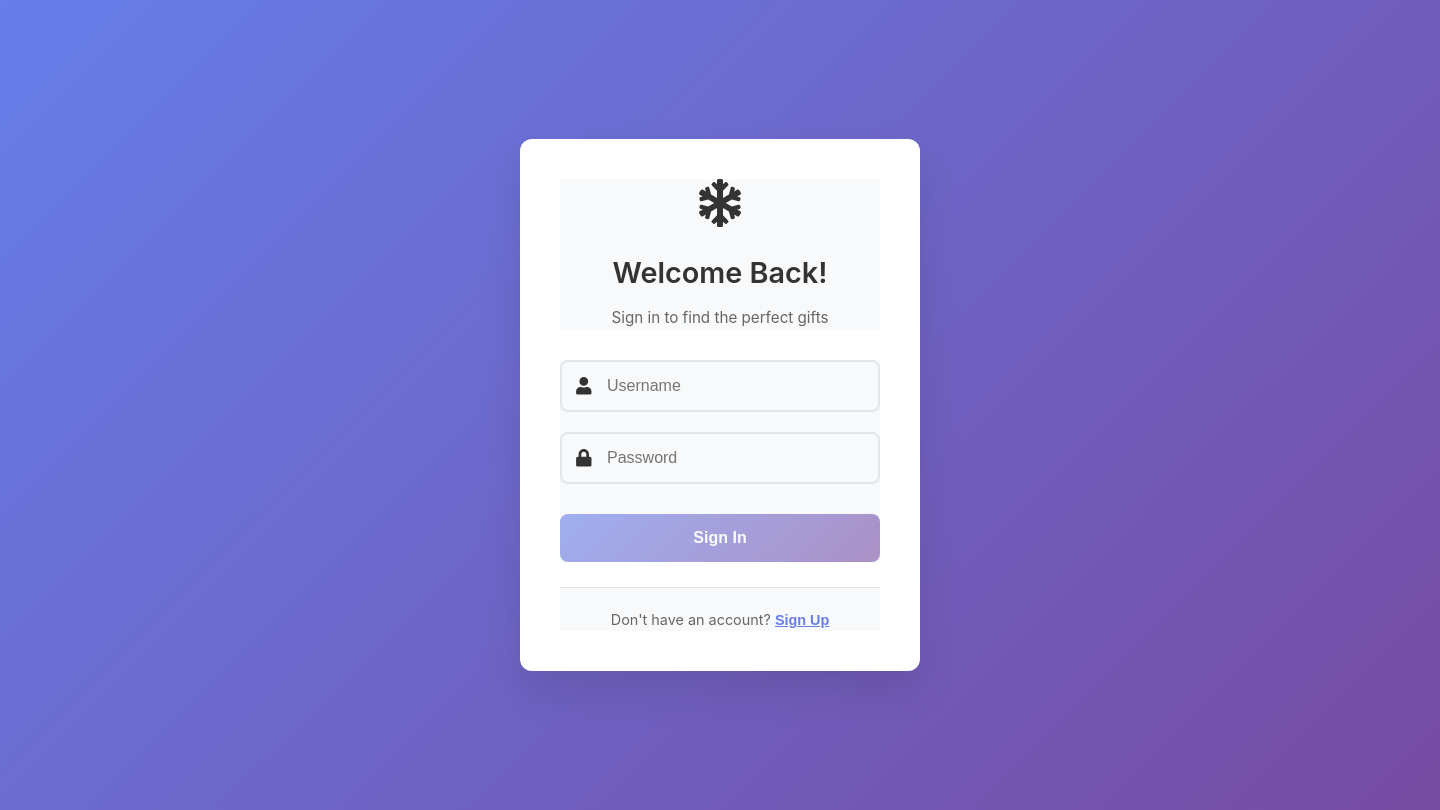
Test: Login Component › Form Submission › handles network errors
The width and height of the screenshot is (1440, 810).
Type "testuser" into the field labelled "Username" at (720, 386), box left=560, top=360, right=880, bottom=412
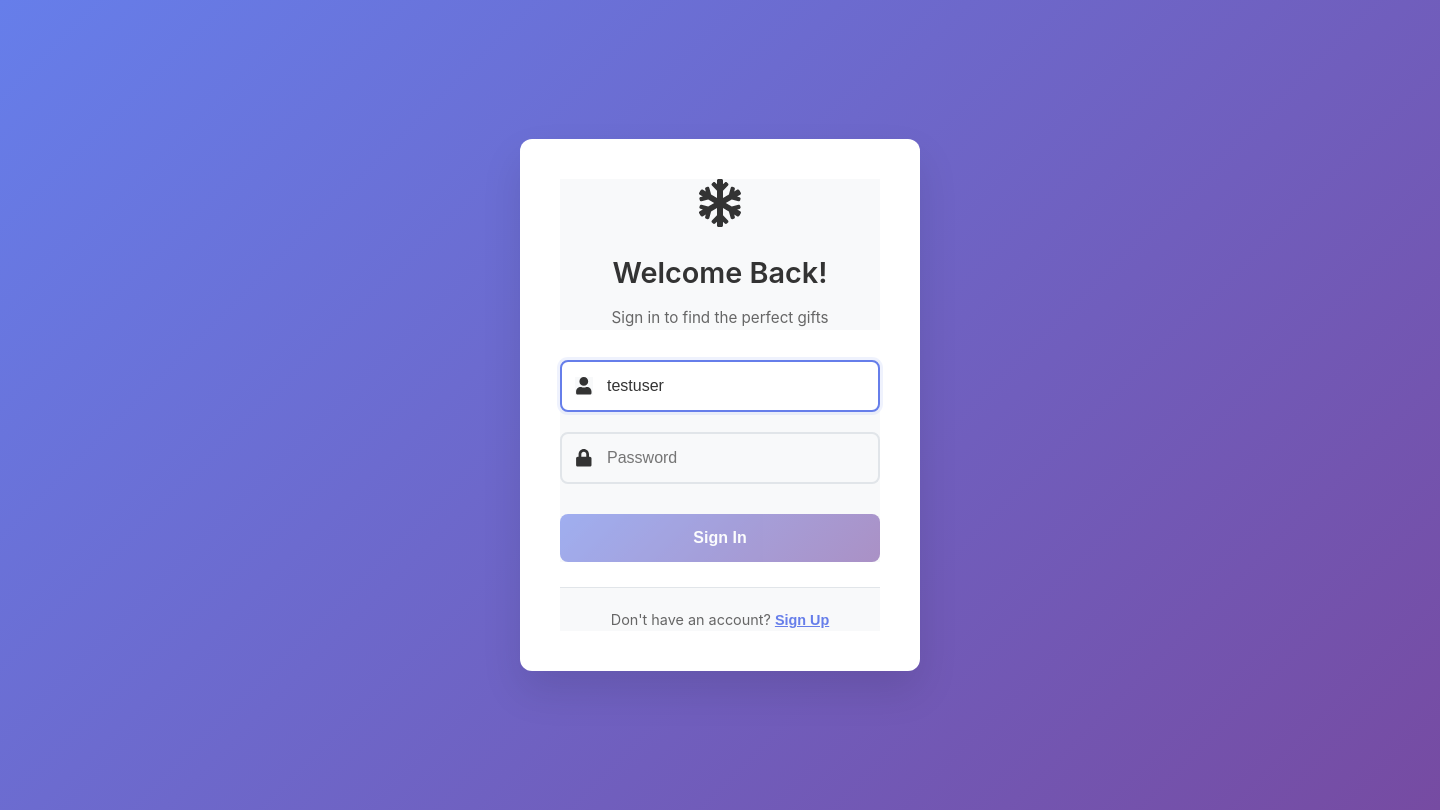
Type "password123" into the password field labelled "Password" at (720, 458), box left=560, top=432, right=880, bottom=484
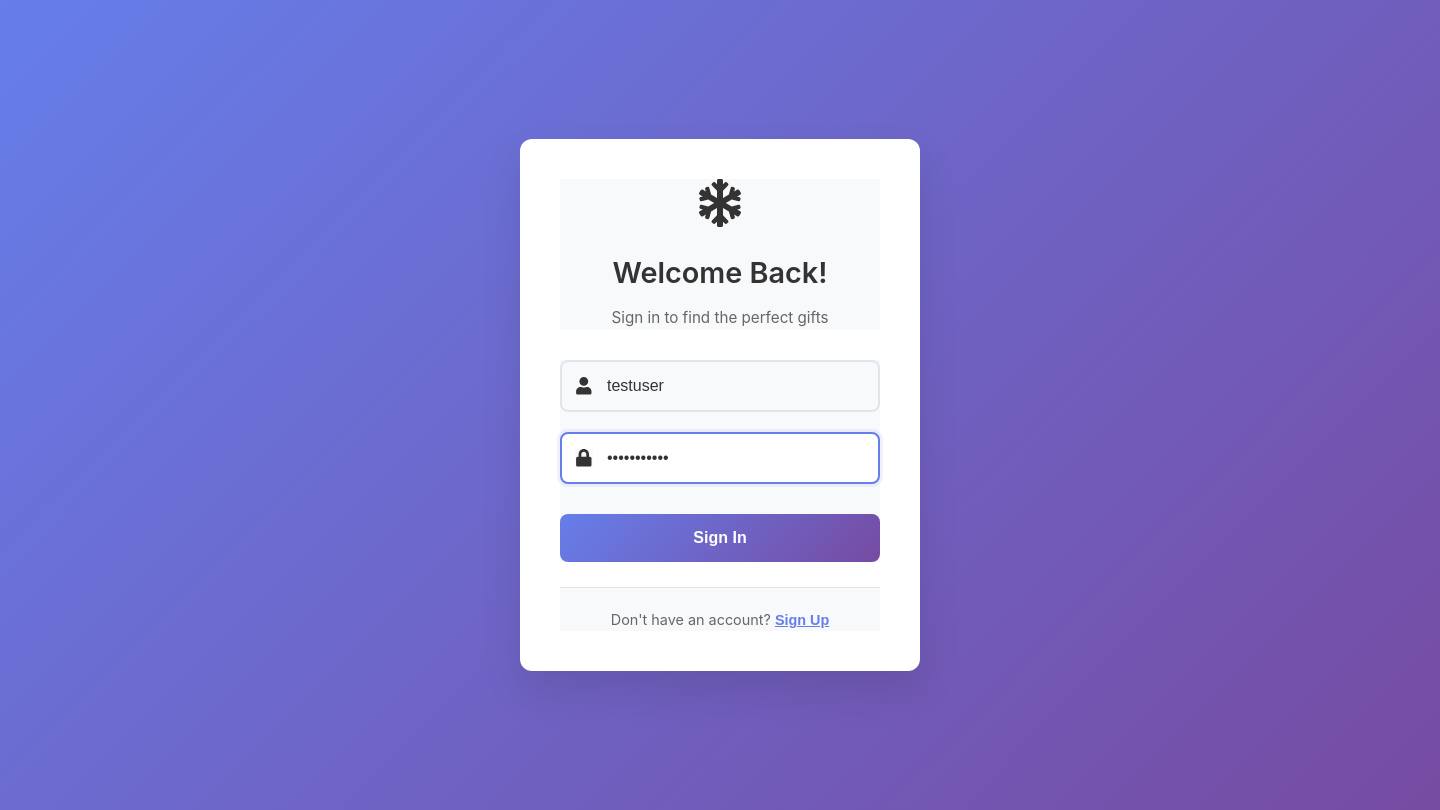
Click the button "Sign In" at (720, 538), box left=560, top=514, right=880, bottom=562
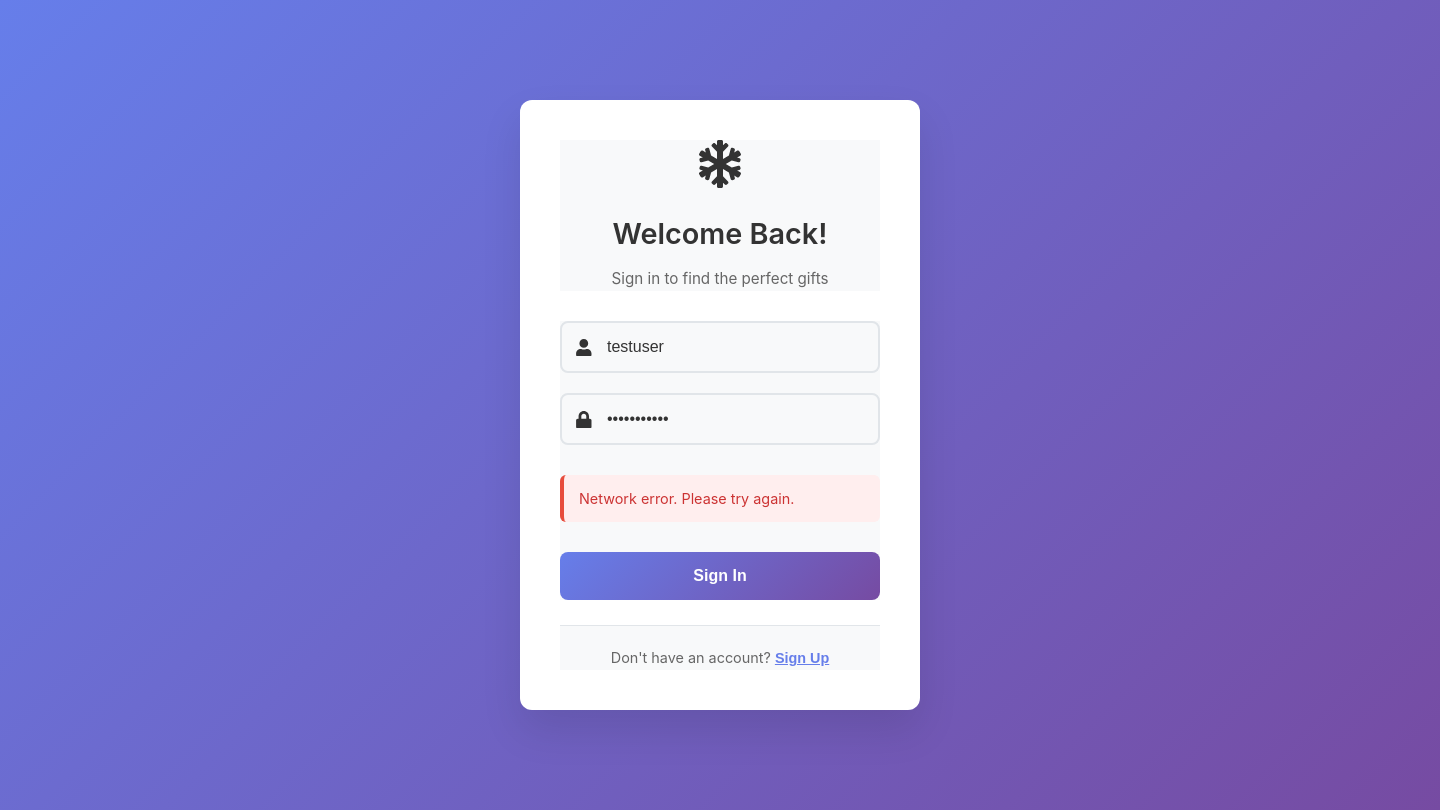
Now the text "Network error. Please try again." is shown, box left=560, top=475, right=880, bottom=522
